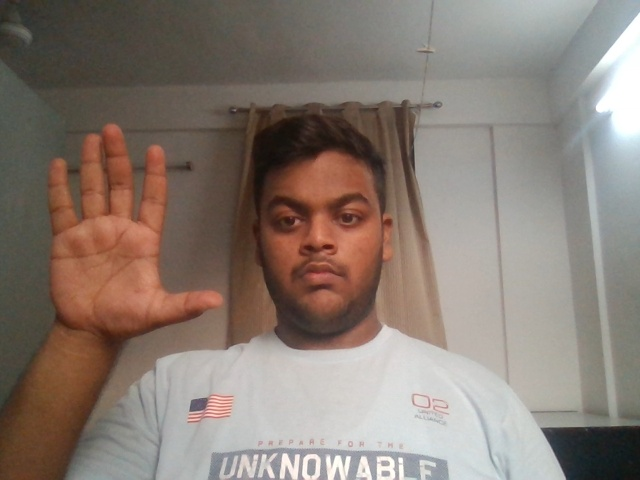Hello: (18, 107, 243, 364)
